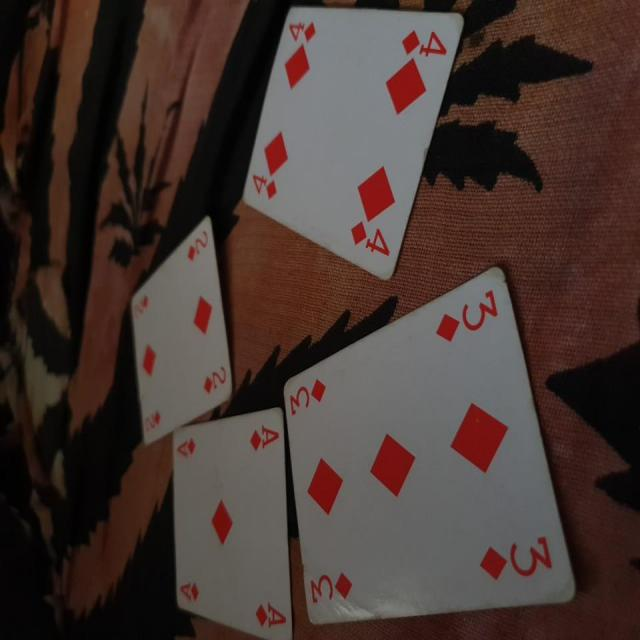2 Diamonds: (127, 213, 234, 444)
3 Diamonds: (280, 262, 580, 638)
4 Diamonds: (244, 5, 467, 282)
A Diamonds: (167, 403, 289, 640)
